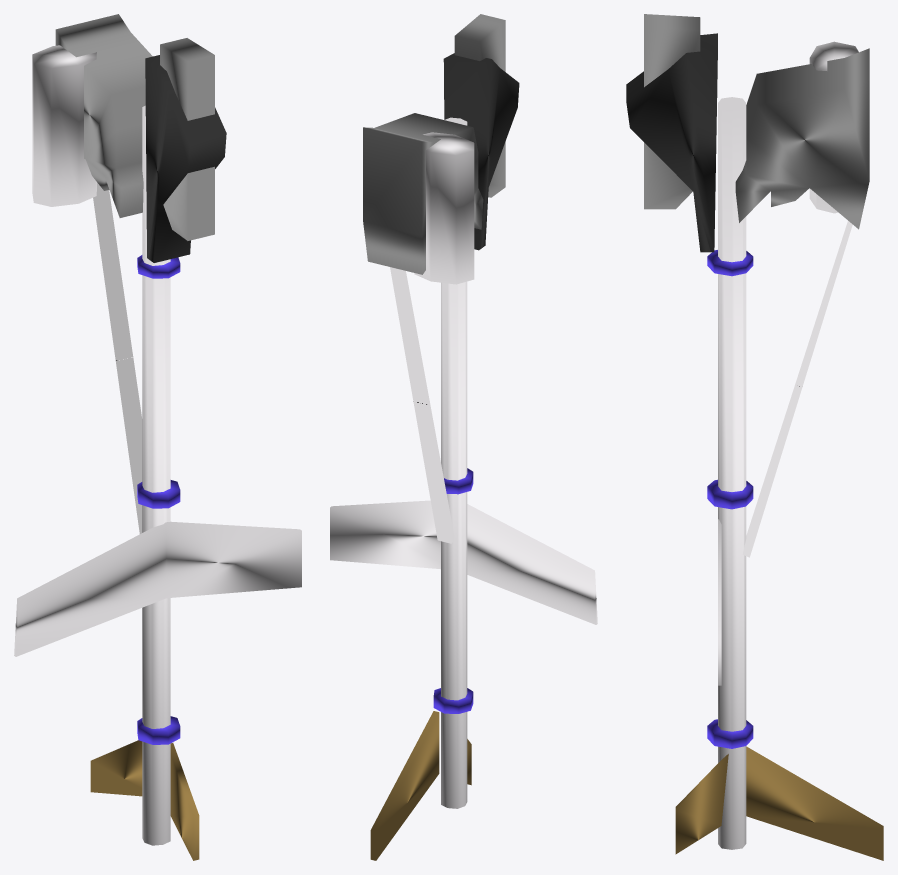
File: Heli_col2.obj
3 renders of one model, left to right at view 1: azimuth 30°, elevation 25°; view 2: azimuth 150°, elevation 25°; view 3: azimuth 270°, elevation 25°, orthographic. The views are drawn at different scales.
Visible parts, largest first — view 1: Line05, eje_cola, Line04, Line03, Cylinder02, Line06, Box03, Line01, Line02, Cylinder13, Cylinder12, Cylinder14; view 2: Line05, eje_cola, Line04, Cylinder02, Line03, Box03, Line01, Line06, Cylinder12; view 3: eje_cola, Line04, Line03, Line01, Line06, Box03, Line02, Cylinder02, Cylinder12, Cylinder13, Cylinder14, Line05.
Boxes of the visible parts, bbox=[...] form: Line05: bbox=[14, 521, 301, 656]; eje_cola: bbox=[142, 105, 170, 845]; Line04: bbox=[55, 14, 152, 217]; Line03: bbox=[145, 55, 226, 262]; Cylinder02: bbox=[32, 45, 96, 206]; Line06: bbox=[160, 38, 214, 240]; Box03: bbox=[93, 182, 142, 533]; Line01: bbox=[90, 740, 142, 796]; Line02: bbox=[170, 743, 199, 860]; Cylinder13: bbox=[137, 480, 180, 508]; Cylinder12: bbox=[137, 716, 180, 744]; Cylinder14: bbox=[137, 255, 180, 278]; Line05: bbox=[330, 500, 597, 624]; eje_cola: bbox=[441, 117, 467, 808]; Line04: bbox=[363, 113, 483, 274]; Cylinder02: bbox=[414, 132, 474, 284]; Line03: bbox=[443, 53, 519, 250]; Box03: bbox=[390, 267, 454, 543]; Line01: bbox=[370, 711, 439, 860]; Line06: bbox=[454, 14, 505, 197]; Cylinder12: bbox=[433, 688, 473, 713]; eje_cola: bbox=[718, 97, 746, 849]; Line04: bbox=[735, 48, 869, 229]; Line03: bbox=[626, 33, 717, 252]; Line01: bbox=[746, 746, 883, 860]; Line06: bbox=[644, 14, 700, 209]; Box03: bbox=[742, 221, 852, 557]; Line02: bbox=[675, 754, 728, 854]; Cylinder02: bbox=[809, 41, 858, 213]; Cylinder12: bbox=[707, 719, 753, 748]; Cylinder13: bbox=[707, 479, 753, 509]; Cylinder14: bbox=[707, 250, 753, 276]; Line05: bbox=[718, 519, 721, 685].
Size of the model in its own units: 0.95 by 2.61 by 0.73.
